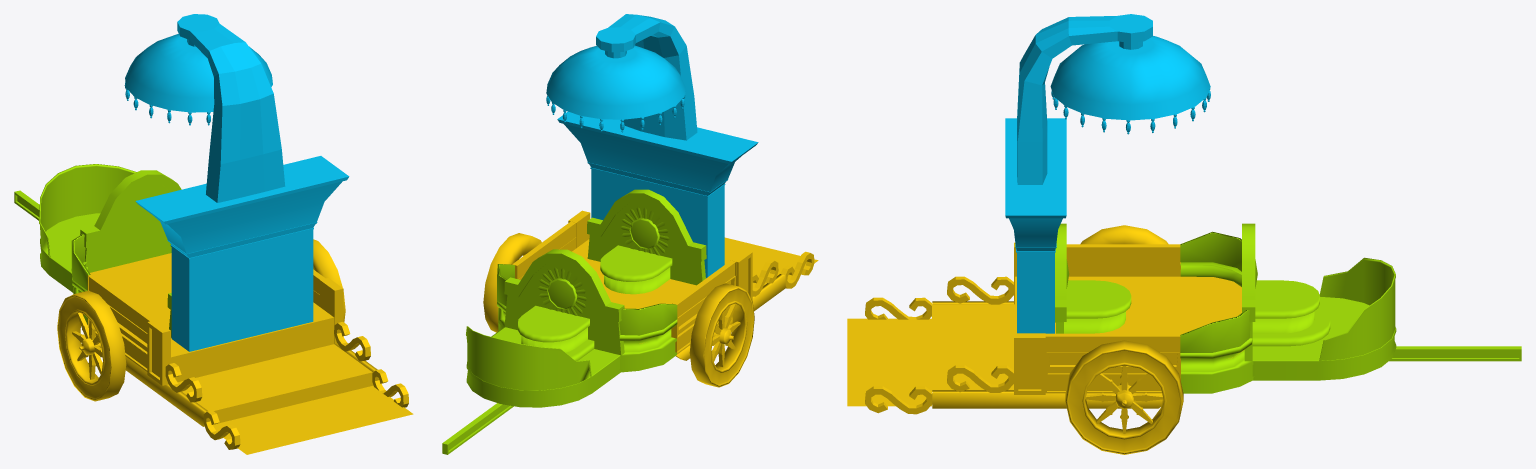
Rendered from Chariot_03.fbx.
3 views of the same model, side by side, from view 1: azimuth 30°, elevation 25°; view 2: azimuth 150°, elevation 25°; view 3: azimuth 270°, elevation 25° (orthographic). The views are drawn at different scales.
Parts seen in each view (by area): view 1: Chariot_003; view 2: Chariot_003; view 3: Chariot_003.
Boxes of the visible parts, x1=… form: Chariot_003: x1=14, y1=14, x2=413, y2=454; Chariot_003: x1=442, y1=14, x2=818, y2=454; Chariot_003: x1=847, y1=14, x2=1521, y2=454.
Bounding box in the file's own units: 262 × 355 × 586.
